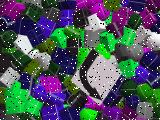Left: (70, 48, 122, 106)
